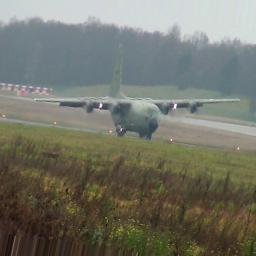Airplane: (36, 58, 241, 140)
